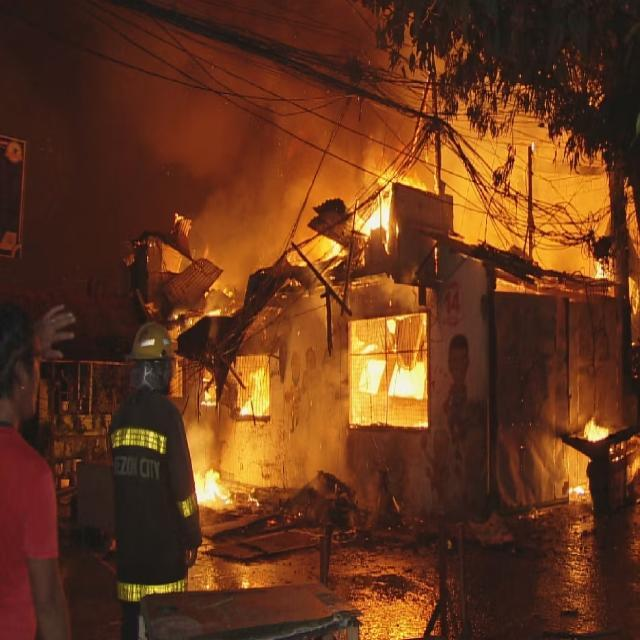Fire: (352, 320, 432, 450), (348, 184, 401, 258), (193, 468, 233, 521)
Smoke: (120, 0, 504, 199)
